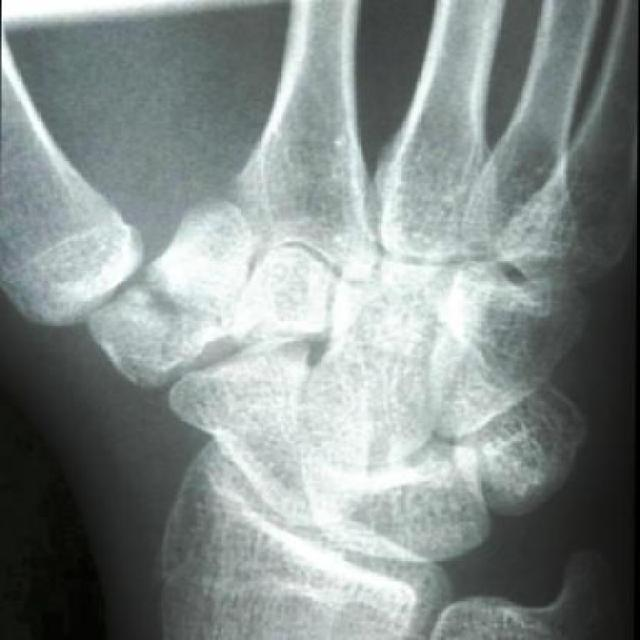Fracture: (109, 245, 238, 371)
